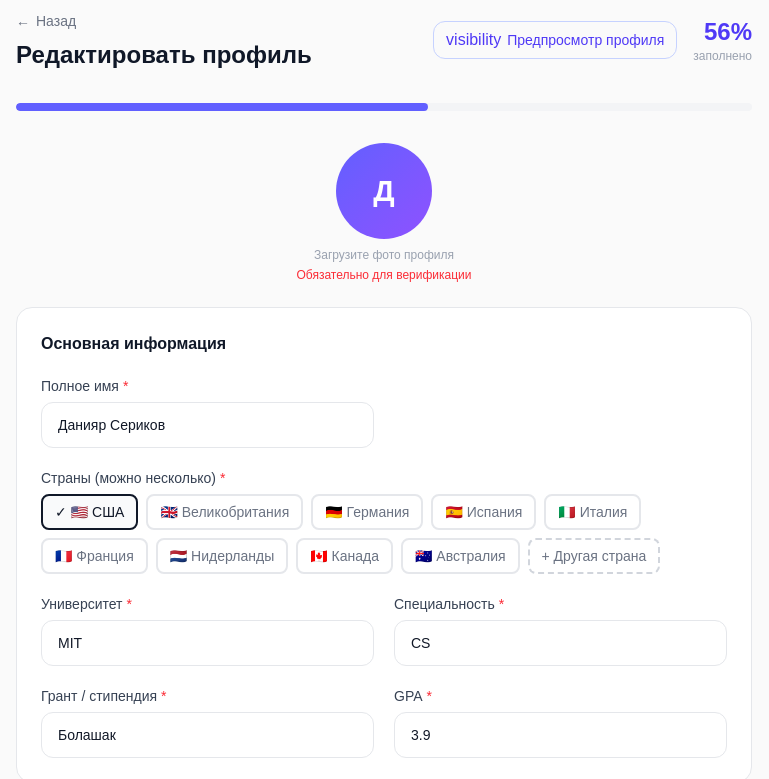
Test case: MentorProfilePage — editing › toggles a popular country chip
Click the button "✓🇺🇸 США" at (90, 512), box [41,494,138,530]
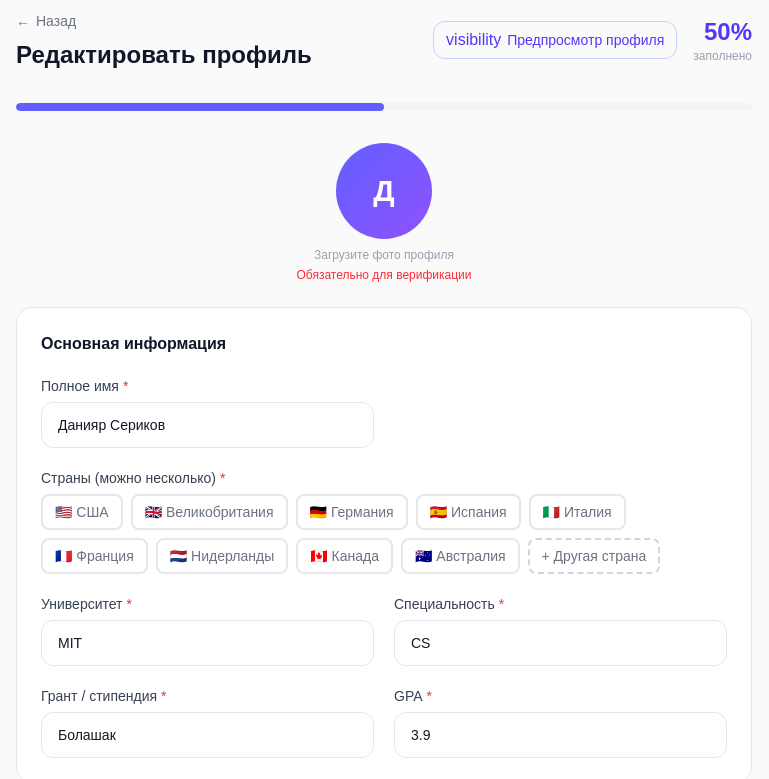
Expected: the button "США" no longer shows "✓"
